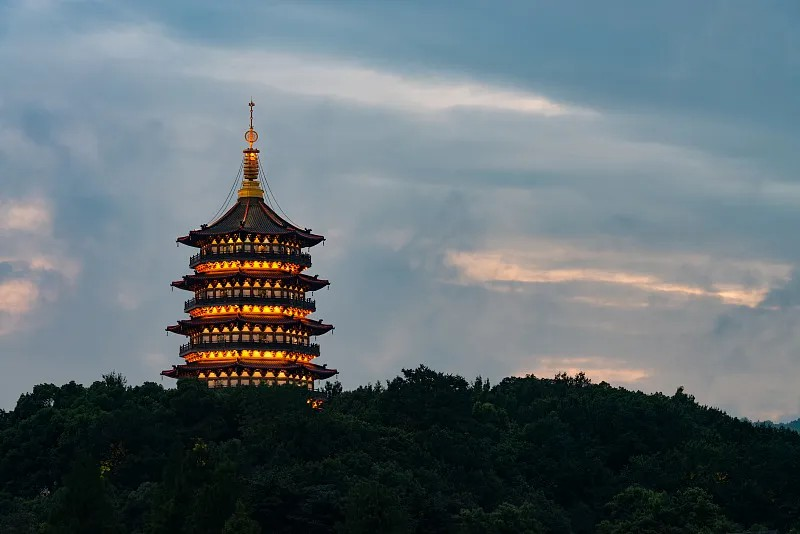Leifeng: (160, 92, 344, 416)
